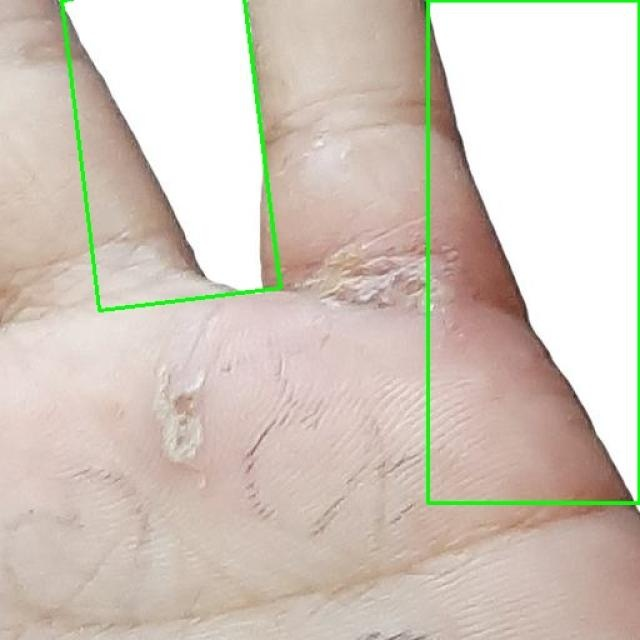Scabies: (428, 0, 639, 502), (62, 0, 280, 310)
